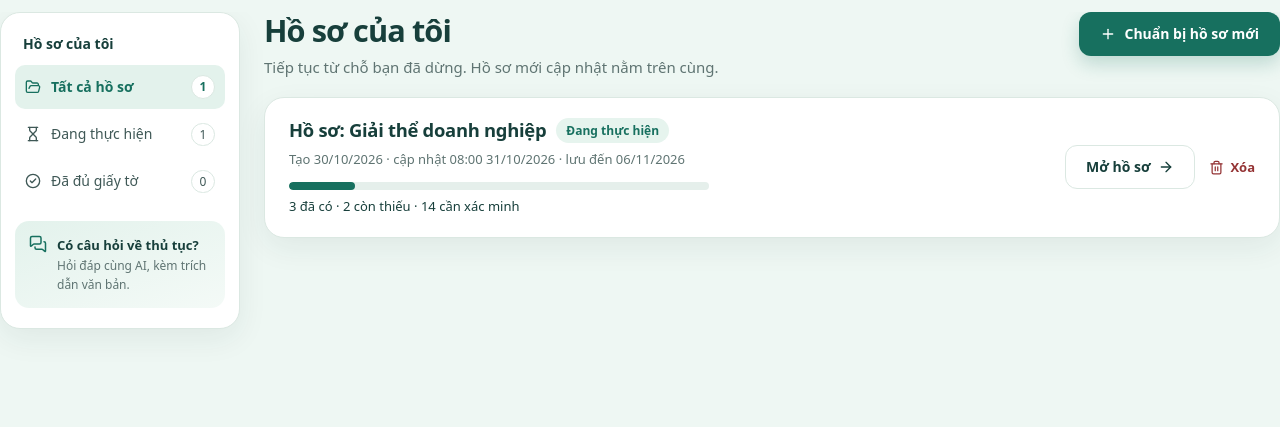
Scenario: Hồ sơ của tôi › báo lỗi khi xóa thất bại và giữ hồ sơ trong danh sách
The image size is (1280, 427).
Click the button "Xóa". click: coordinates (1232, 167)
box: [1209,151,1255,184]
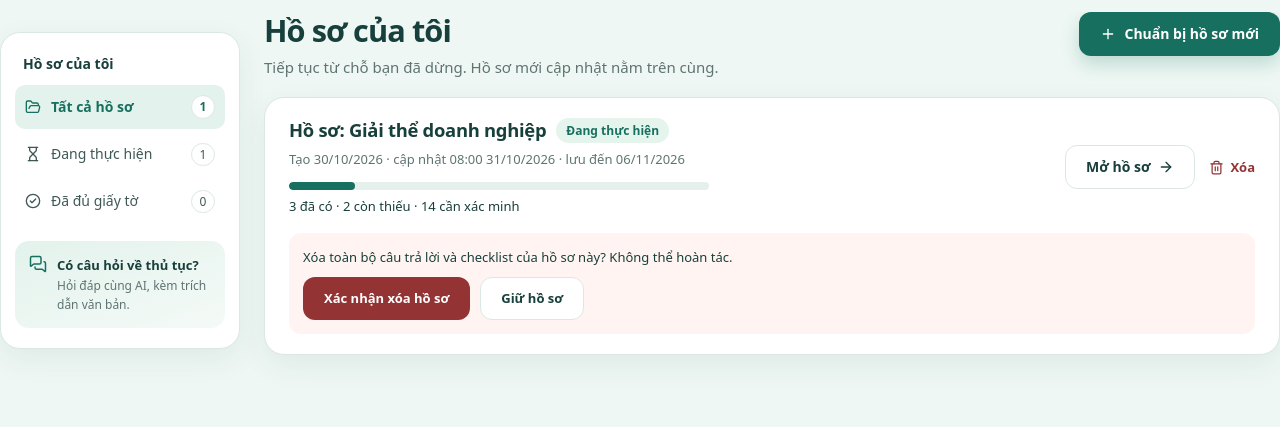
Click the button "Xác nhận xóa hồ sơ". click: coordinates (387, 299)
box: [303,277,470,320]
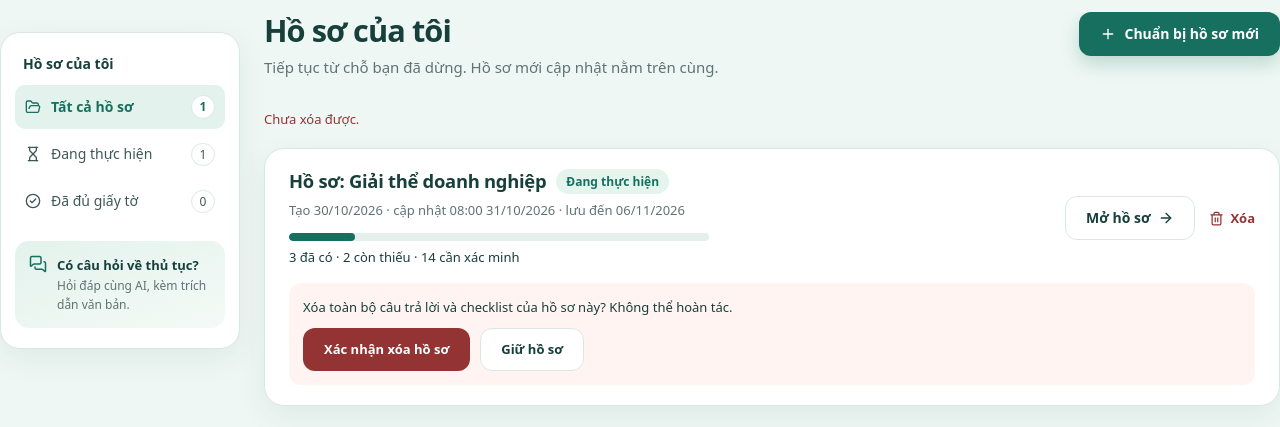
Expected: the text "3 đã có · 2 còn thiếu · 14 cần xác minh" is shown, [289,248,520,266]
Result: the message reads "Chưa xóa được." at [264,110,359,128]
